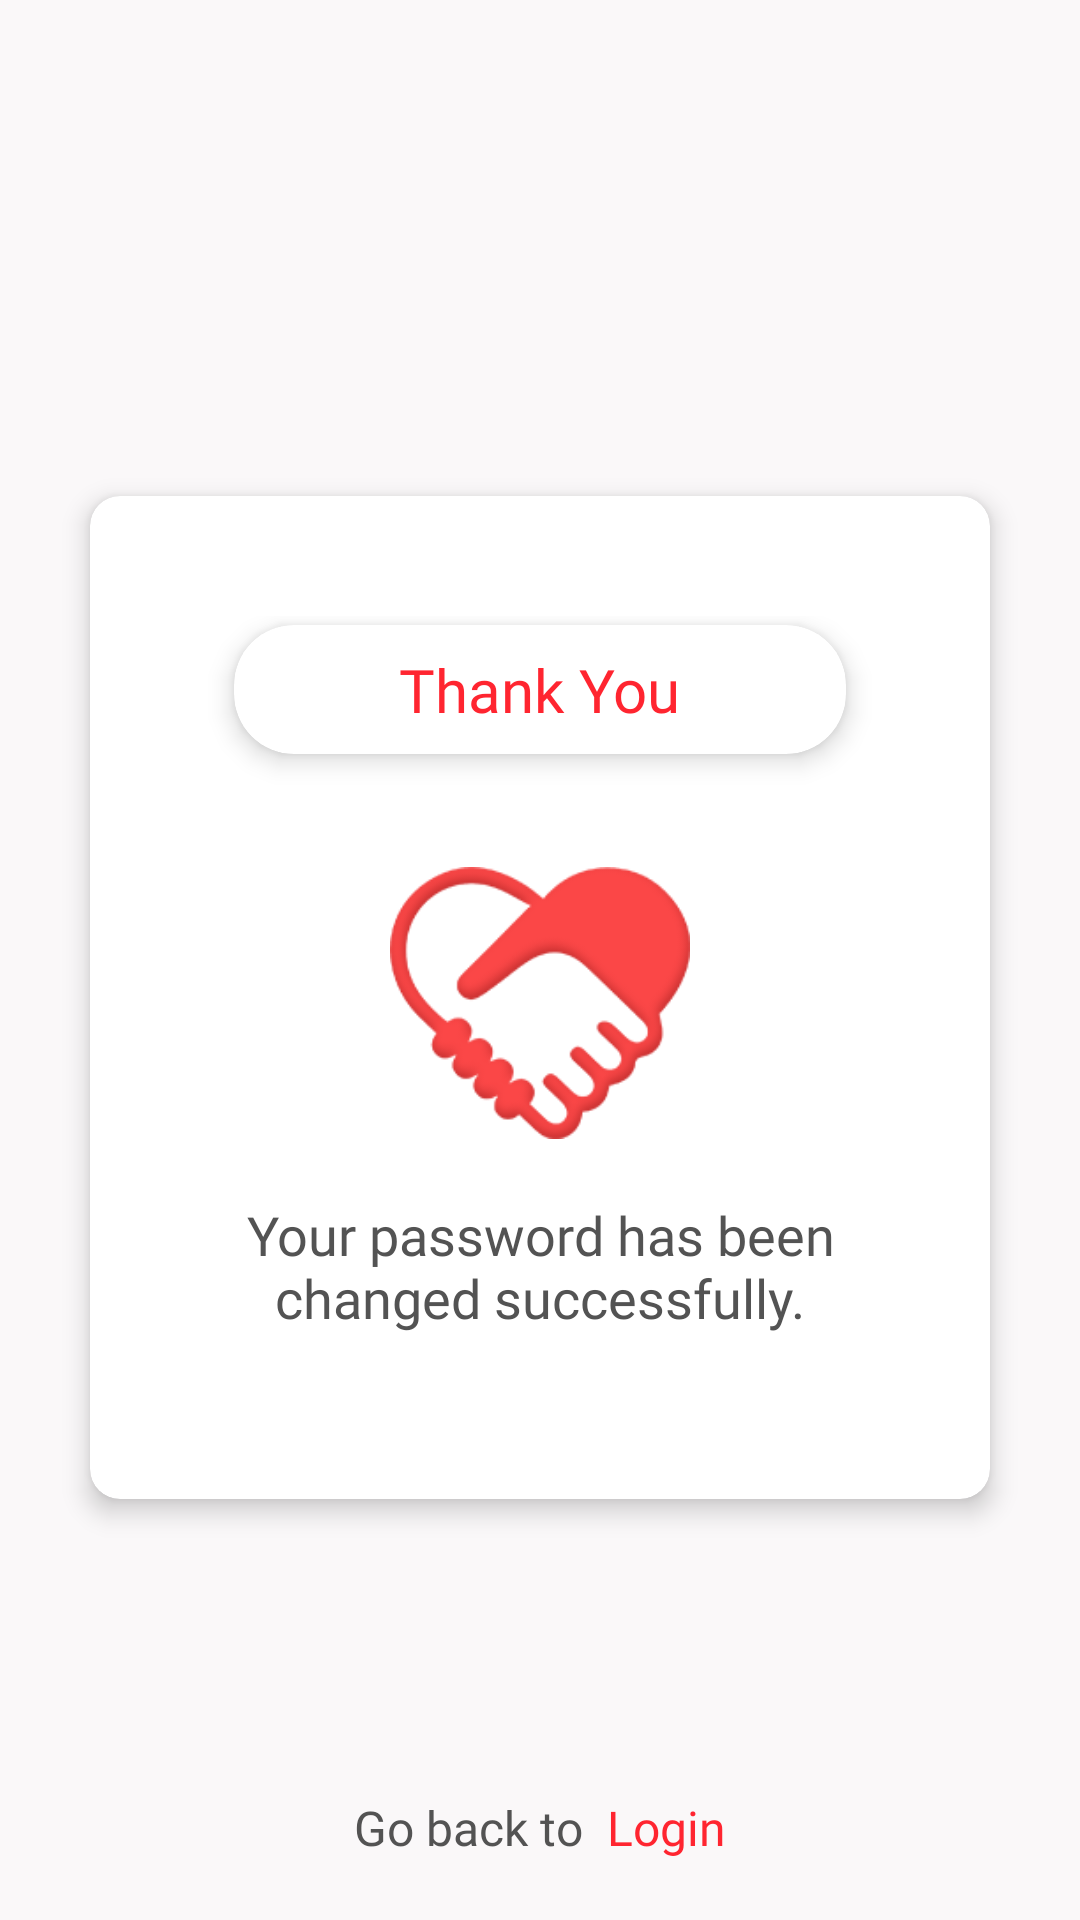

Icon click points for this 1080w x 1920h phone screenshot, format (x=x, y=y):
thanx: (x=540, y=1003)
